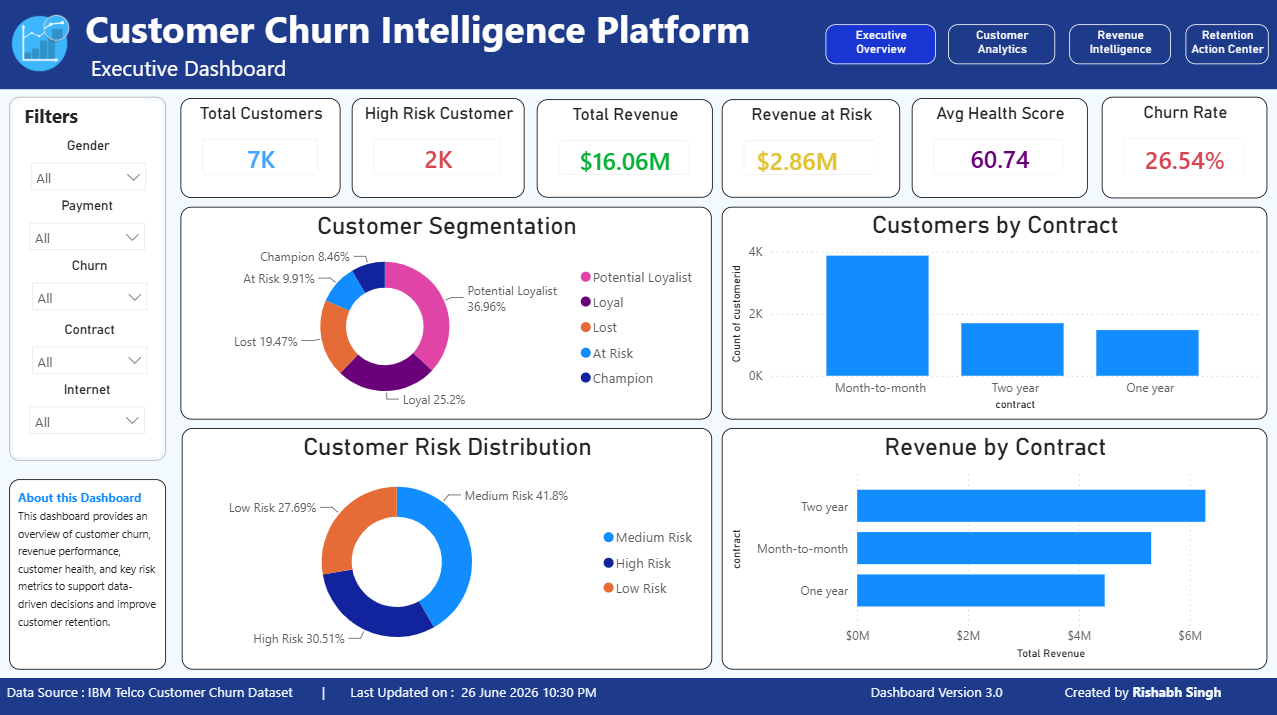

This screenshot's page, from the dashboard's own definition file:
{"tool":"powerbi","page":{"name":"Executive Overview","canvas":[1280,720],"ordinal":0},"visuals":[{"type":"cardVisual","title":"Revenue at Risk","fields":{"Data":["Customer Dashboard.Revenue At Risk"]},"box":[724.3,101.4,178.6,98.6],"z":0},{"type":"cardVisual","title":"Avg Health Score","fields":{"Data":["Customer Dashboard.Average Health Score"]},"box":[914.3,100,175.7,100],"z":1000},{"type":"cardVisual","title":"High Risk Customer","fields":{"Data":["Customer Dashboard.High Risk Customers"]},"box":[354.3,100,172.9,100],"z":2000},{"type":"cardVisual","title":"Churn Rate","fields":{"Data":["Customer Dashboard.Churn Rate"]},"box":[1104.3,98.6,165.7,101.4],"z":3000},{"type":"cardVisual","title":"Total Revenue","fields":{"Data":["Customer Dashboard.Total Revenue"]},"box":[538.6,101.4,175.7,98.6],"z":4000},{"type":"cardVisual","title":"Total Customers","fields":{"Data":["Customer Dashboard.Total Customers"]},"box":[182.9,100,160,100],"z":5000},{"type":"donutChart","title":"Customer Segmentation","fields":{"Category":["Customer Dashboard.customer_segment"],"Y":["CountNonNull(Customer Dashboard.customerid)"]},"box":[182.9,208.6,531.4,213],"z":6000},{"type":"donutChart","title":"Customer Risk Distribution","fields":{"Category":["Customer Dashboard.risk_category"],"Y":["CountNonNull(Customer Dashboard.customerid)"]},"box":[184.3,430,530,241.4],"z":7000},{"type":"clusteredColumnChart","title":"Customers by Contract","fields":{"Category":["Customer Dashboard.contract"],"Y":["CountNonNull(Customer Dashboard.customerid)"]},"box":[724.3,208.6,545.7,213],"z":8000},{"type":"clusteredBarChart","title":"Revenue by Contract","fields":{"Category":["Customer Dashboard.contract"],"Y":["Customer Dashboard.Total Revenue"]},"box":[724.3,430,545.7,241.4],"z":9000},{"type":"shape","box":[11.4,98.6,157.1,364.3],"z":10000},{"type":"textbox","box":[0,0,1280,91.4],"z":11000,"group":"g1"},{"type":"slicer","title":"Gender","fields":{"Values":["Customer Dashboard.gender"]},"box":[22.9,140,135.7,60],"z":11000},{"type":"slicer","title":"Payment","fields":{"Values":["Customer Dashboard.paymentmethod"]},"box":[21.4,200,135.7,77.1],"z":12000},{"type":"slicer","title":"Internet","fields":{"Values":["Customer Dashboard.internetservice"]},"box":[21.4,384.3,135.7,61.4],"z":13000},{"type":"slicer","title":"Churn","fields":{"Values":["Customer Dashboard.churn"]},"box":[24.3,260,135.7,78.6],"z":14000},{"type":"slicer","title":"Contract","fields":{"Values":["Customer Dashboard.contract"]},"box":[24.3,324.3,135.7,60],"z":15000},{"type":"textbox","box":[21.4,100,122.9,38.6],"z":16000},{"type":"group","id":"g1","title":"Group 1","box":[0,0,1280,91.4],"z":17000},{"type":"actionButton","title":"Executive Overview","box":[827.1,25.7,110,40],"z":17000,"group":"g1"},{"type":"actionButton","title":"Revenue Intelligence","box":[1071.4,25.7,101.4,40],"z":18000,"group":"g1"},{"type":"textbox","box":[0,680,1280,40],"z":18000},{"type":"actionButton","title":"Retention Action Center","box":[1187.1,25.7,82.9,40],"z":19000,"group":"g1"},{"type":"actionButton","title":"Customer Analytics","box":[950,25.7,107.1,40],"z":20000,"group":"g1"},{"type":"textbox","box":[11.4,481.4,157.1,190],"z":20000}]}

Visuals, with their boxes in screenshot pixels (x1, y1, x2, y2), scaled from the page's 1280x720 canvas onto the 1277x715 screenshot:
"Revenue at Risk" cardVisual: 723/101/901/199
"Avg Health Score" cardVisual: 912/99/1087/199
"High Risk Customer" cardVisual: 353/99/526/199
"Churn Rate" cardVisual: 1102/98/1267/199
"Total Revenue" cardVisual: 537/101/713/199
"Total Customers" cardVisual: 182/99/342/199
"Customer Segmentation" donutChart: 182/207/713/419
"Customer Risk Distribution" donutChart: 184/427/713/667
"Customers by Contract" clusteredColumnChart: 723/207/1267/419
"Revenue by Contract" clusteredBarChart: 723/427/1267/667
shape: 11/98/168/460
textbox: 0/0/1276/91
"Gender" slicer: 23/139/158/199
"Payment" slicer: 21/199/157/275
"Internet" slicer: 21/382/157/443
"Churn" slicer: 24/258/160/336
"Contract" slicer: 24/322/160/382
textbox: 21/99/144/138
"Group 1" group: 0/0/1276/91
"Executive Overview" actionButton: 825/26/935/65
"Revenue Intelligence" actionButton: 1069/26/1170/65
textbox: 0/675/1276/714
"Retention Action Center" actionButton: 1184/26/1267/65
"Customer Analytics" actionButton: 948/26/1055/65
textbox: 11/478/168/667
